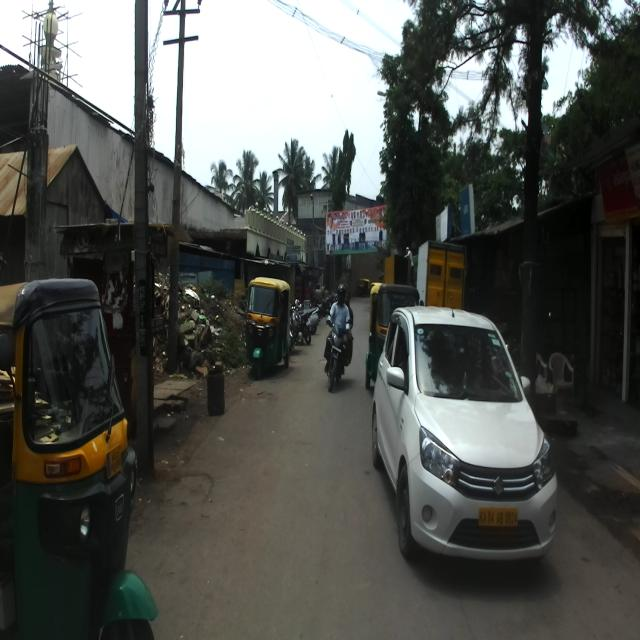auto ahead at: (2, 269, 160, 640), (242, 269, 294, 382)
car ahead at: (377, 301, 559, 566)
electric pole ahead at: (126, 1, 167, 472)
motorcycle ahead at: (321, 321, 355, 395)
